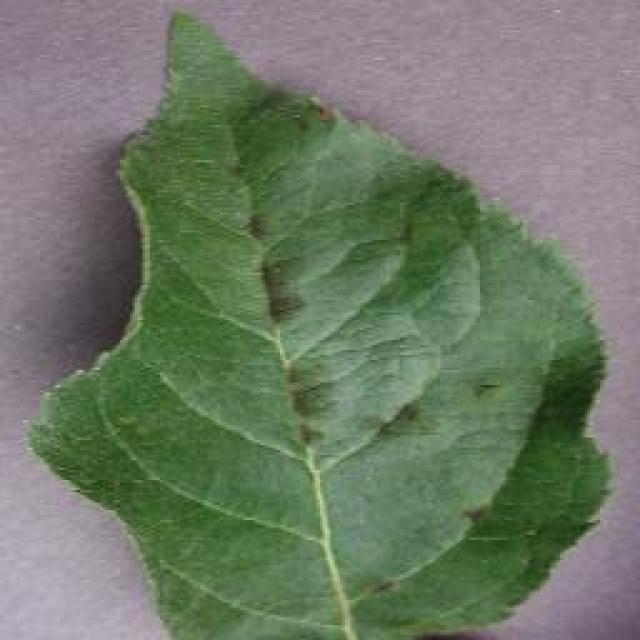apple scab disease: (25, 5, 615, 637)
